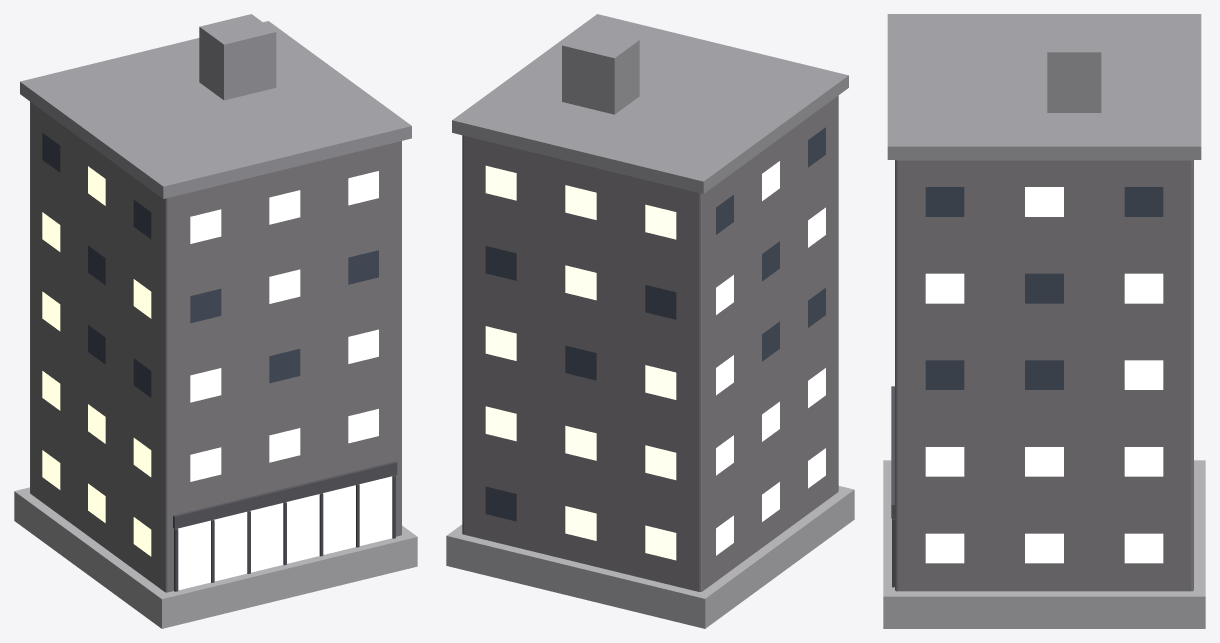
File: bt-fh6-bldg-a.glb
3 renders of one model, left to right at view 1: azimuth 30°, elevation 25°; view 2: azimuth 150°, elevation 25°; view 3: azimuth 270°, elevation 25°, orthographic. The views are drawn at different scales.
Visible parts, largest first — view 1: bt-fh6-bldg-a_body, bt-fh6-bldg-a_cornice, bt-fh6-bldg-a_skirt, bt-fh6-bldg-a_storefront, bt-fh6-bldg-a_roofbox, bt-fh6-bldg-a_storehead, bt-fh6-bldg-a_wf2_0, bt-fh6-bldg-a_wf2_1, bt-fh6-bldg-a_wf3_0, bt-fh6-bldg-a_wf1_0, bt-fh6-bldg-a_wf3_1, bt-fh6-bldg-a_wf4_0 (+6 smaller); view 2: bt-fh6-bldg-a_body, bt-fh6-bldg-a_cornice, bt-fh6-bldg-a_skirt, bt-fh6-bldg-a_roofbox, bt-fh6-bldg-a_wb0_0, bt-fh6-bldg-a_wb1_2, bt-fh6-bldg-a_wb2_1, bt-fh6-bldg-a_wb3_1, bt-fh6-bldg-a_wb4_0, bt-fh6-bldg-a_wb0_1, bt-fh6-bldg-a_wb0_2, bt-fh6-bldg-a_wb1_1 (+7 smaller); view 3: bt-fh6-bldg-a_body, bt-fh6-bldg-a_cornice, bt-fh6-bldg-a_skirt, bt-fh6-bldg-a_roofbox, bt-fh6-bldg-a_ws3_0, bt-fh6-bldg-a_ws3_2, bt-fh6-bldg-a_ws0_0, bt-fh6-bldg-a_ws0_2, bt-fh6-bldg-a_ws0_1, bt-fh6-bldg-a_ws3_1, bt-fh6-bldg-a_ws1_0, bt-fh6-bldg-a_ws1_2 (+8 smaller).
Boxes of the visible parts, x1,y1,x2,y2 form: bt-fh6-bldg-a_body: (30,101,401,592); bt-fh6-bldg-a_cornice: (20,21,411,198); bt-fh6-bldg-a_skirt: (14,487,417,628); bt-fh6-bldg-a_storefront: (178,476,392,590); bt-fh6-bldg-a_roofbox: (199,14,276,100); bt-fh6-bldg-a_storehead: (173,461,397,528); bt-fh6-bldg-a_wf2_0: (190,368,221,402); bt-fh6-bldg-a_wf2_1: (269,349,300,383); bt-fh6-bldg-a_wf3_0: (190,288,221,323); bt-fh6-bldg-a_wf1_0: (190,447,221,481); bt-fh6-bldg-a_wf3_1: (269,269,300,303); bt-fh6-bldg-a_wf4_0: (190,209,221,243); bt-fh6-bldg-a_body: (462,95,838,591); bt-fh6-bldg-a_cornice: (452,14,848,193); bt-fh6-bldg-a_skirt: (446,486,854,628); bt-fh6-bldg-a_roofbox: (562,27,639,114); bt-fh6-bldg-a_wb0_0: (645,525,676,560); bt-fh6-bldg-a_wb1_2: (485,406,516,441); bt-fh6-bldg-a_wb2_1: (565,345,596,380); bt-fh6-bldg-a_wb3_1: (565,265,596,300); bt-fh6-bldg-a_wb4_0: (645,204,676,239); bt-fh6-bldg-a_wb0_1: (565,506,596,540); bt-fh6-bldg-a_wb0_2: (485,486,516,521); bt-fh6-bldg-a_wb1_1: (565,425,596,460); bt-fh6-bldg-a_body: (895,160,1193,591); bt-fh6-bldg-a_cornice: (887,14,1201,159); bt-fh6-bldg-a_skirt: (883,460,1205,628); bt-fh6-bldg-a_roofbox: (1047,24,1101,112); bt-fh6-bldg-a_ws3_0: (1124,273,1163,303); bt-fh6-bldg-a_ws3_2: (925,273,964,303); bt-fh6-bldg-a_ws0_0: (1124,533,1163,563); bt-fh6-bldg-a_ws0_2: (925,533,964,563); bt-fh6-bldg-a_ws0_1: (1025,533,1063,563); bt-fh6-bldg-a_ws3_1: (1025,273,1063,303); bt-fh6-bldg-a_ws1_0: (1124,447,1163,476); bt-fh6-bldg-a_ws1_2: (925,447,964,476).
Bounding box in the file's own units: 10.8 × 20 × 10.8.
